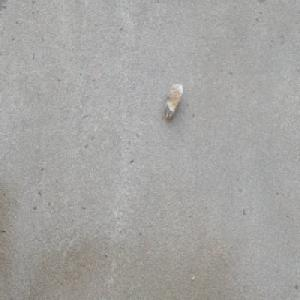Rock: (164, 82, 183, 121)
